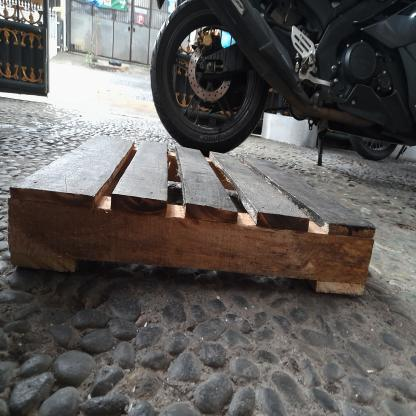Wooden-Pallet: (5, 131, 378, 305)
